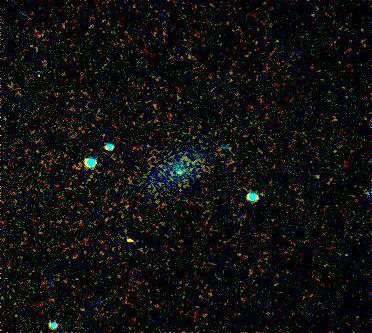star: (113, 228, 143, 258)
